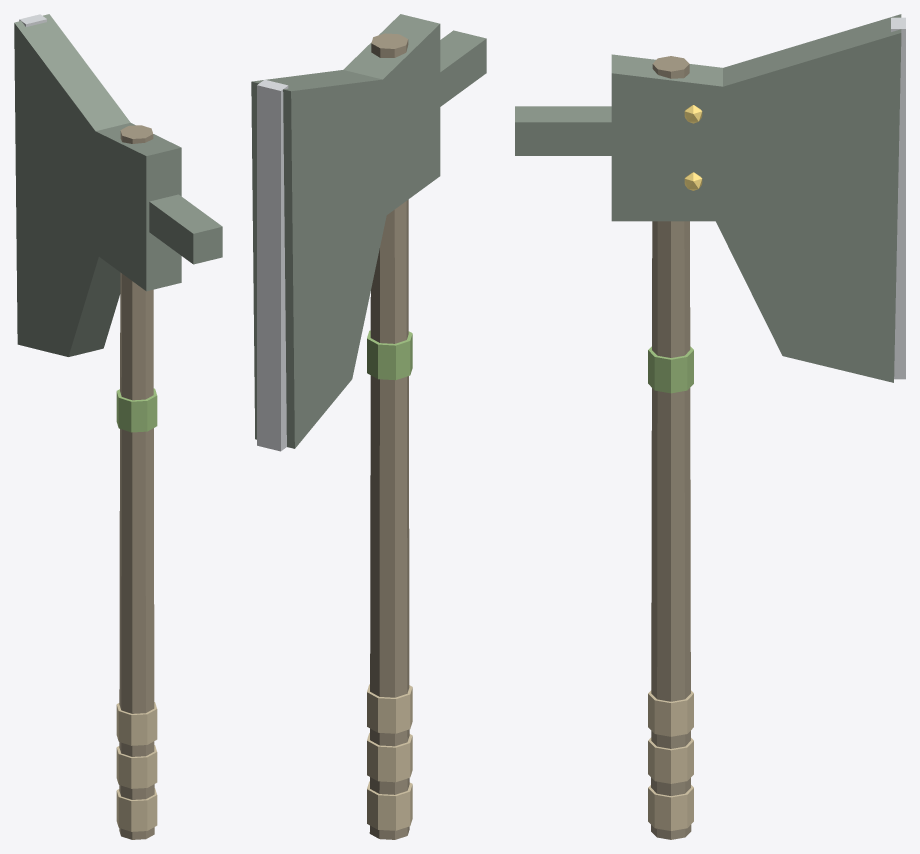
File: Axe_8.fbx
3 renders of one model, left to right at view 1: azimuth 30°, elevation 25°; view 2: azimuth 150°, elevation 25°; view 3: azimuth 270°, elevation 25°, orthographic. The views are drawn at different scales.
Parts seen in each view (by area): view 1: Axe_8_Mesh; view 2: Axe_8_Mesh; view 3: Axe_8_Mesh.
Boxes of the visible parts, box(x1,y1,x2,y2) form: Axe_8_Mesh: box(14, 14, 222, 839); Axe_8_Mesh: box(251, 14, 486, 839); Axe_8_Mesh: box(515, 14, 905, 839).
Bounding box in the file's own units: 0.0755 × 1.2 × 0.526.
